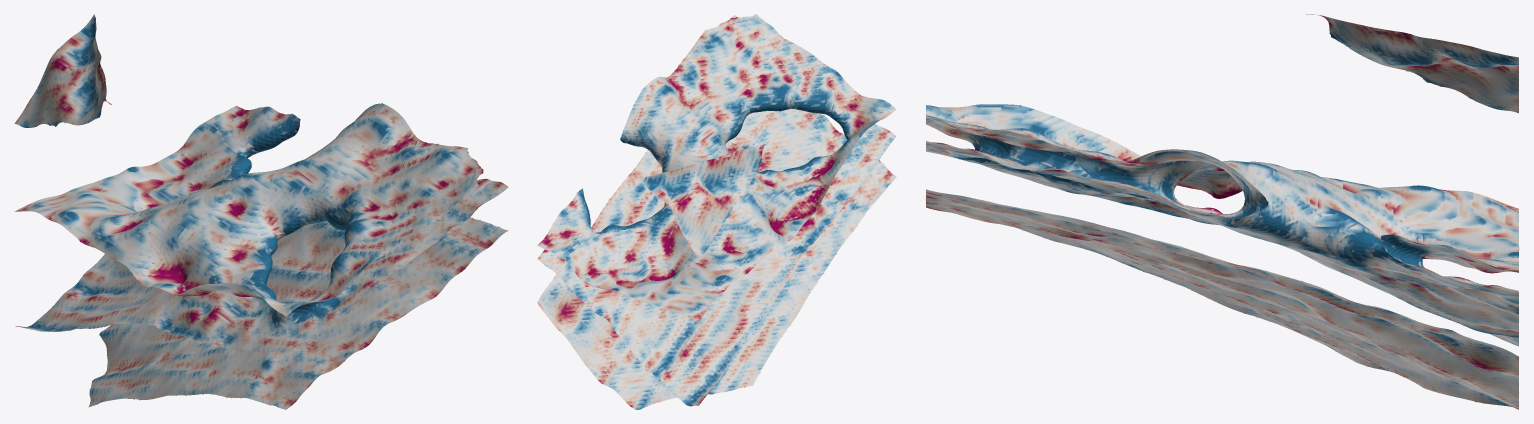
Rendered from crop1137_curvature.glb.
3 views of the same model, side by side, from view 1: azimuth 30°, elevation 25°; view 2: azimuth 150°, elevation 25°; view 3: azimuth 270°, elevation 25° (orthographic). The views are drawn at different scales.
Parts seen in each view (by area): view 1: world; view 2: world; view 3: world.
Boxes of the visible parts, bbox=[...] form: world: bbox=[14, 14, 508, 409]; world: bbox=[537, 14, 896, 409]; world: bbox=[925, 14, 1519, 409].
Bounding box in the file's own units: 1080 × 1479 × 2279.
